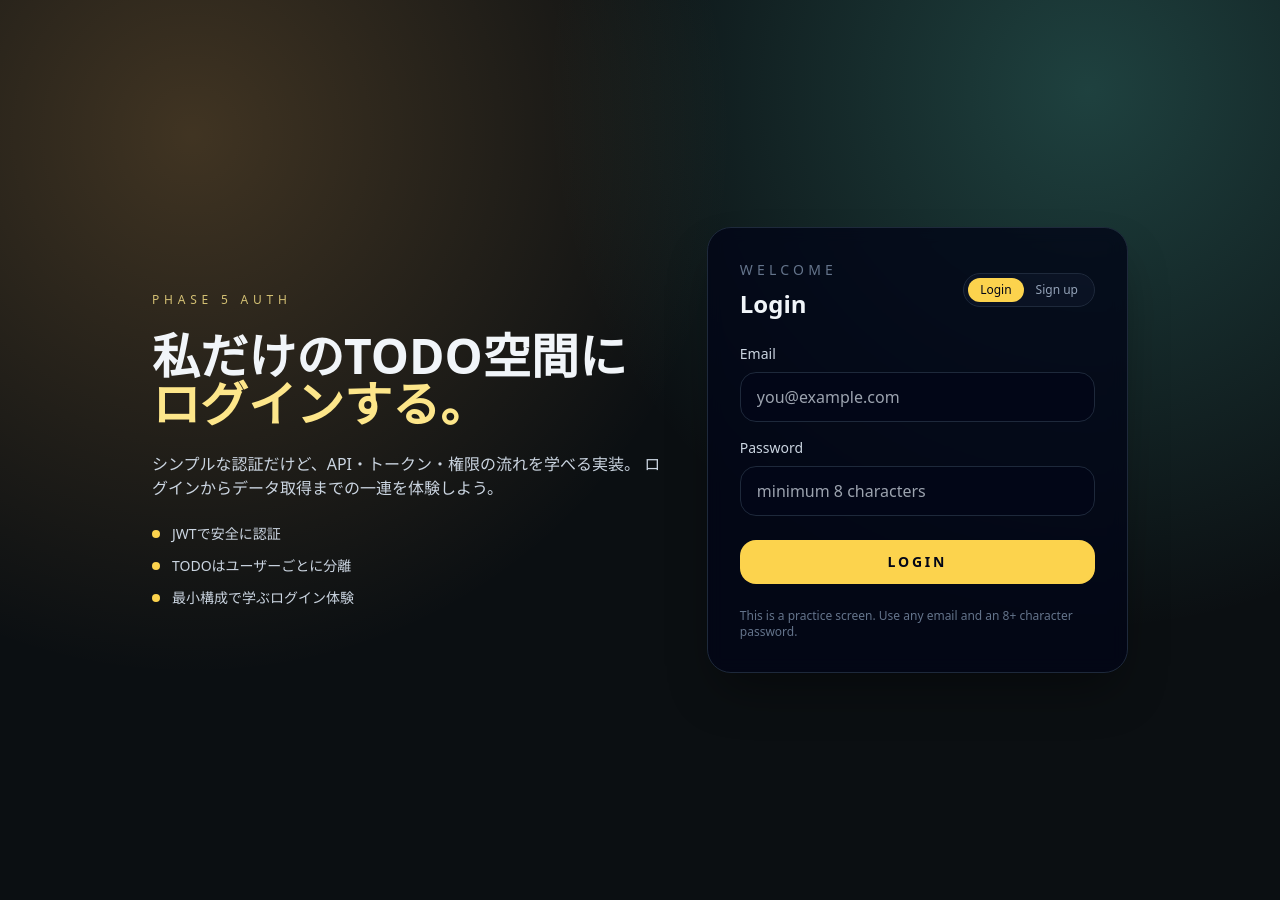
Test: AuthScreen › ログイン失敗時はエラーを表示する
Type "user@example.com" into the field labelled "Email" at (917, 397), box [740,372,1095,422]
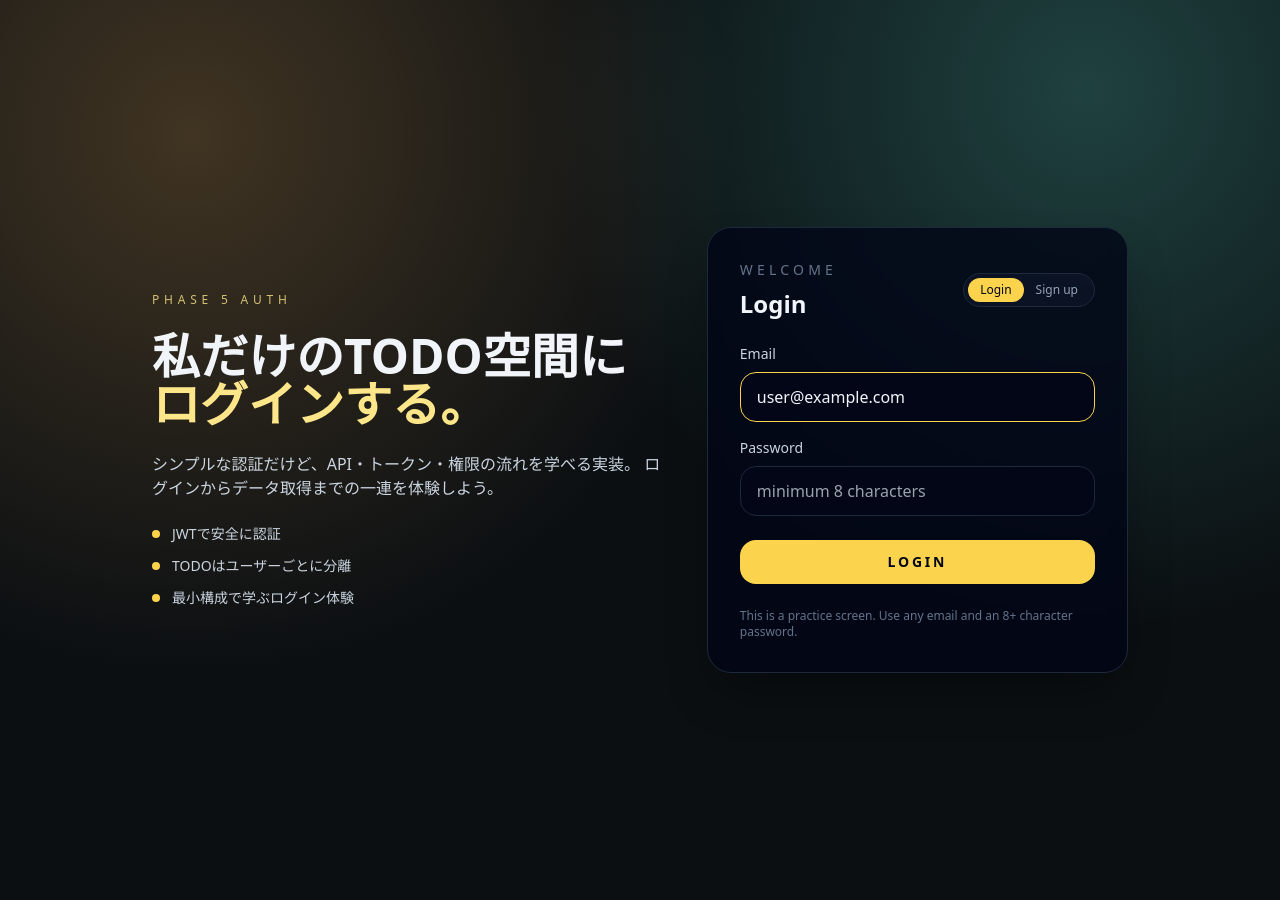
Type "password123" into the password field labelled "Password" at (917, 491), box [740,466,1095,516]
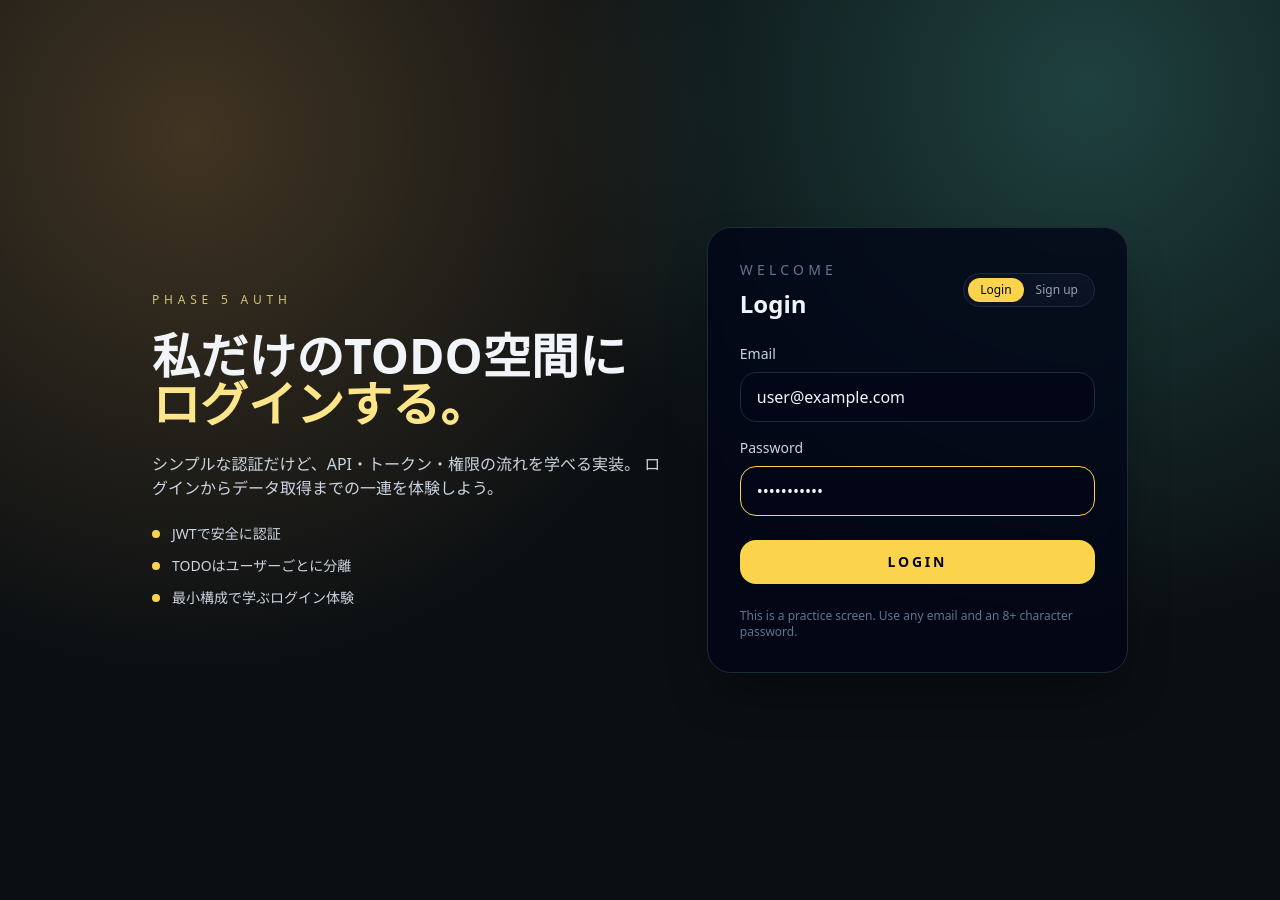
Click the 2nd button "Login" at (917, 562), box [740,540,1095,584]
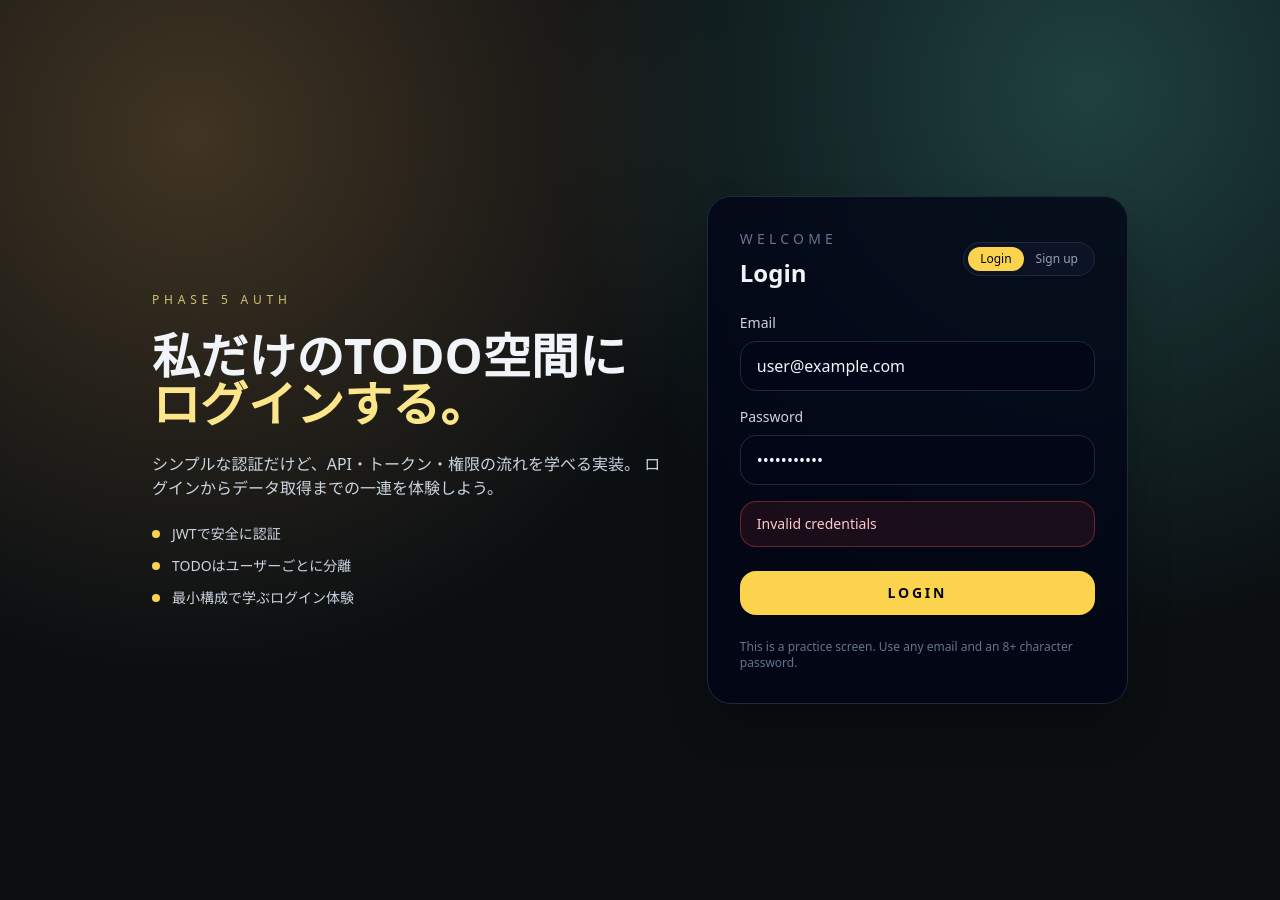
Check: the text "Invalid credentials" is shown, box [740,501,1095,547]
